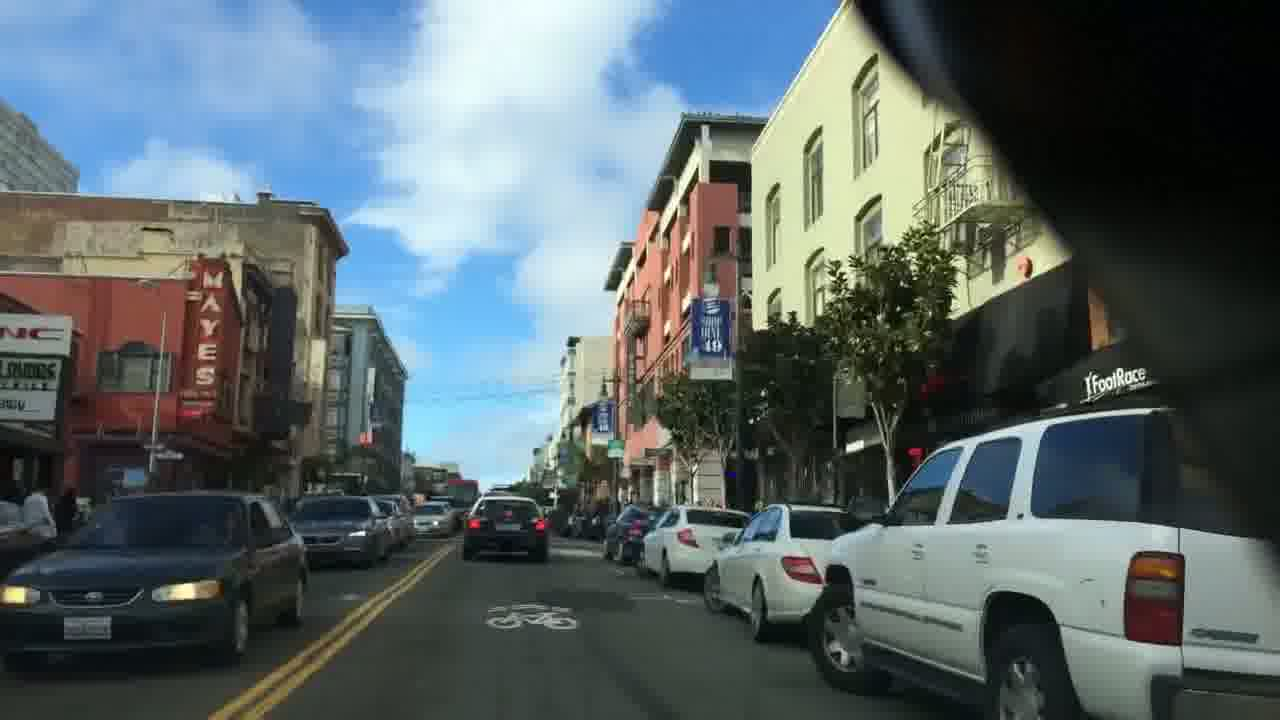car: (805, 402, 1280, 720), (0, 488, 310, 669), (703, 502, 848, 642), (638, 503, 752, 586), (286, 495, 388, 569), (461, 495, 547, 561), (603, 503, 663, 564), (408, 500, 457, 537)
